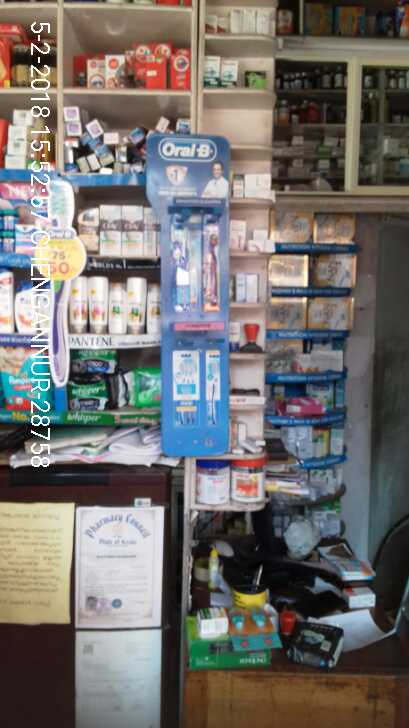pharmacy: (170, 207, 192, 310), (201, 214, 222, 311), (121, 370, 162, 411), (69, 378, 114, 409), (69, 349, 118, 375)
